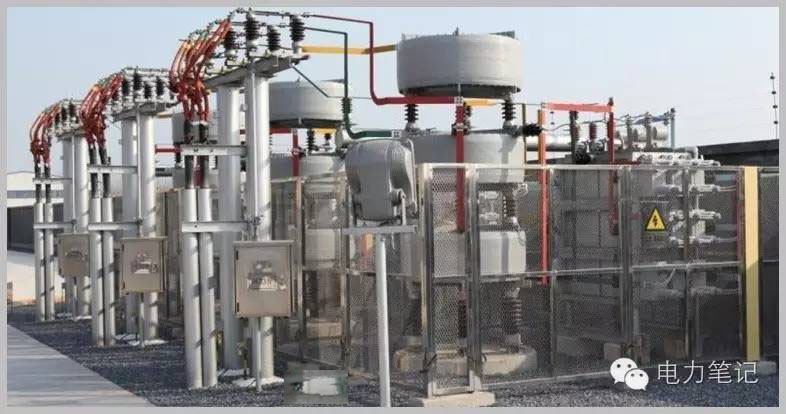oil: (284, 365, 350, 404)
